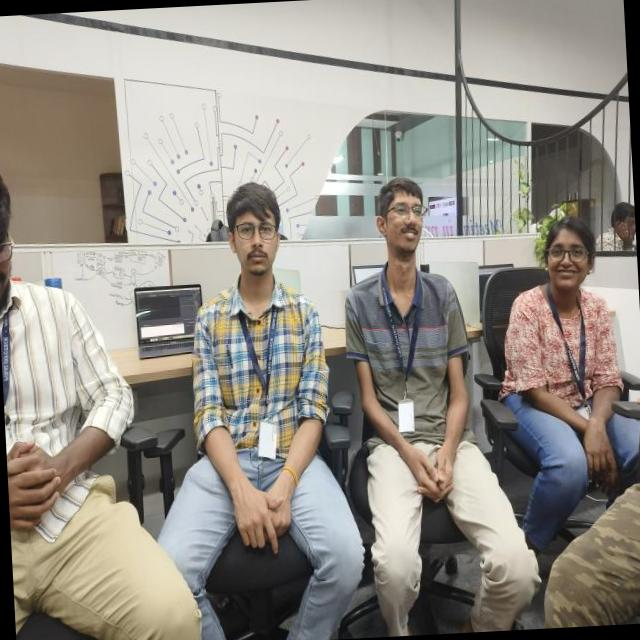id_card: (382, 266, 433, 440), (239, 298, 291, 458), (554, 293, 596, 432), (0, 304, 15, 433)
